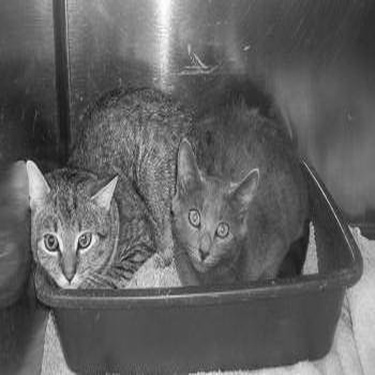cat: (16, 81, 189, 296), (173, 103, 311, 290)
